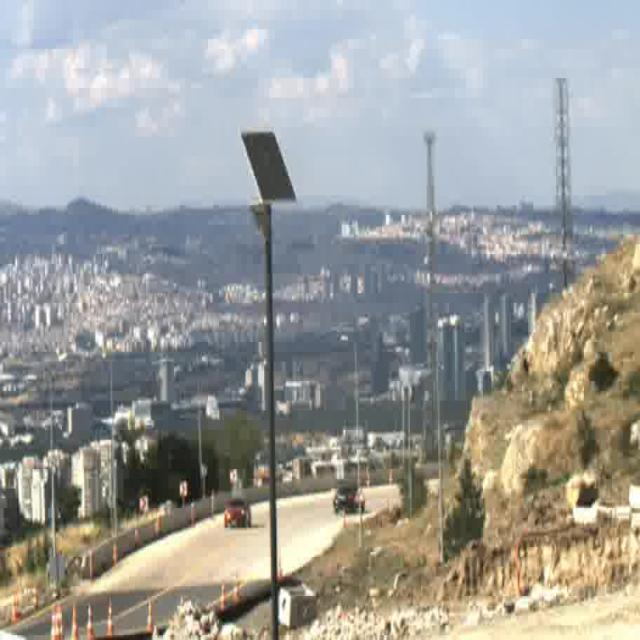Car: (224, 496, 251, 526), (334, 486, 364, 512)
